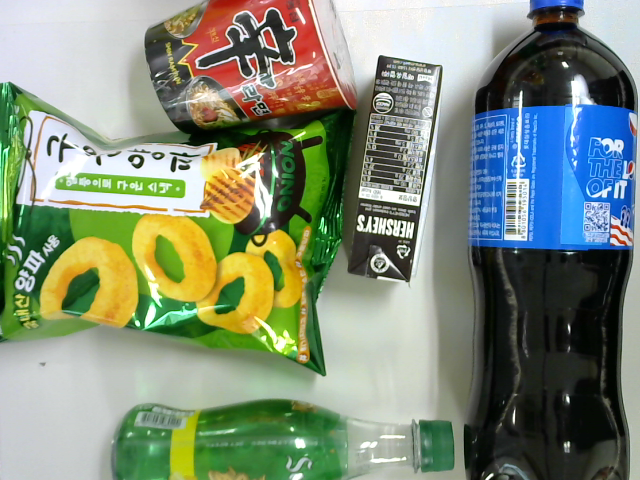Grilled_Onions: (1, 78, 356, 378)
Hush_Choco_Drink: (346, 51, 446, 286)
Pepsi_Cola_1.5L: (464, 1, 640, 480)
Seagram_Lemon_Carbonated_Water: (109, 394, 456, 474)
Sinramen_small: (141, 1, 357, 134)
